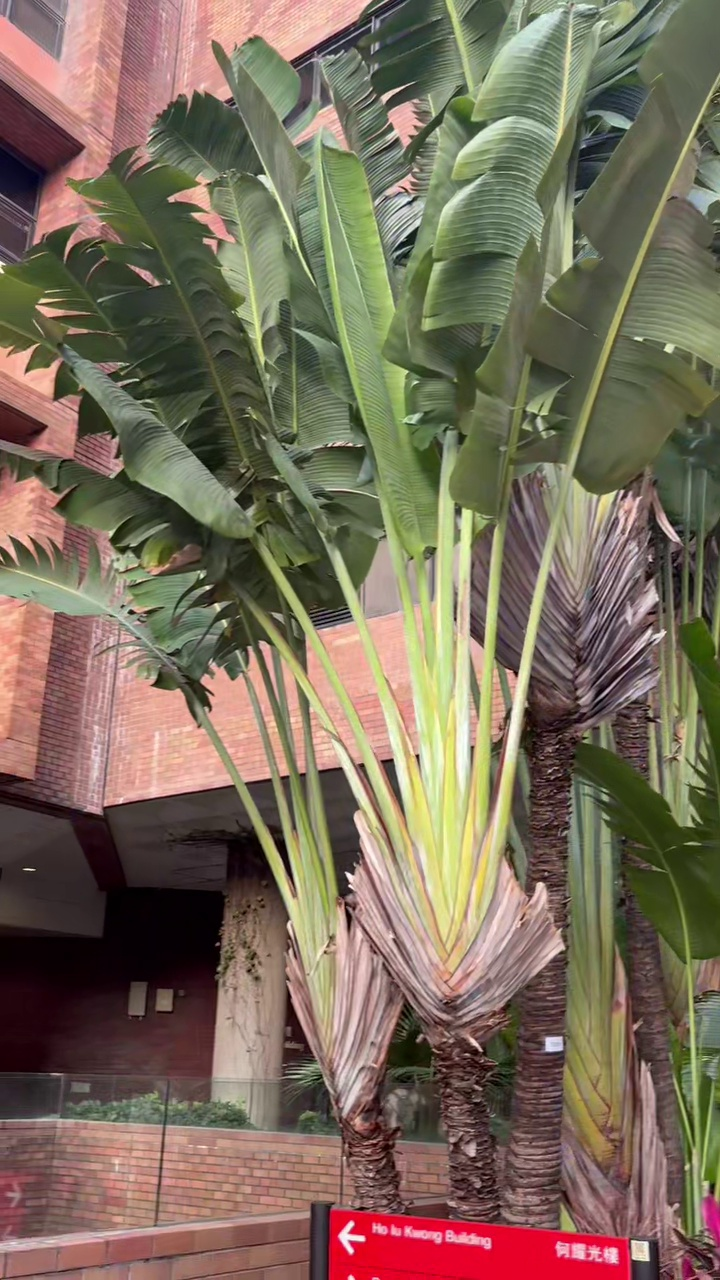Travellers-tree: (0, 0, 719, 1218)
